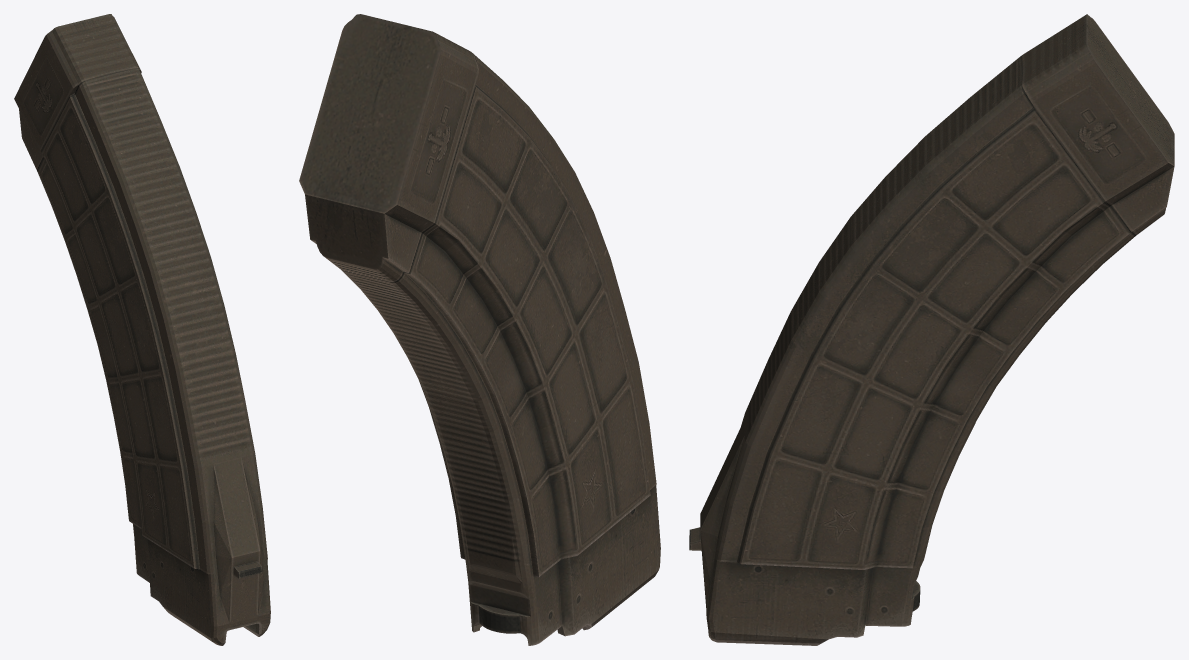
3 views of the same model, side by side, from view 1: azimuth 30°, elevation 25°; view 2: azimuth 150°, elevation 25°; view 3: azimuth 270°, elevation 25° (orthographic). The views are drawn at different scales.
Parts seen in each view (by area): view 1: TW_59fafc9386f774067d462453_PZ_Import; view 2: TW_59fafc9386f774067d462453_PZ_Import; view 3: TW_59fafc9386f774067d462453_PZ_Import.
Part boxes in pixels (bbox=[...]): TW_59fafc9386f774067d462453_PZ_Import: bbox=[14, 14, 270, 645]; TW_59fafc9386f774067d462453_PZ_Import: bbox=[299, 14, 660, 645]; TW_59fafc9386f774067d462453_PZ_Import: bbox=[689, 14, 1174, 645].
Bounding box in the file's own units: 0.0168 × 0.0853 × 0.1175.
Materials: 1 (1 with a texture image).
